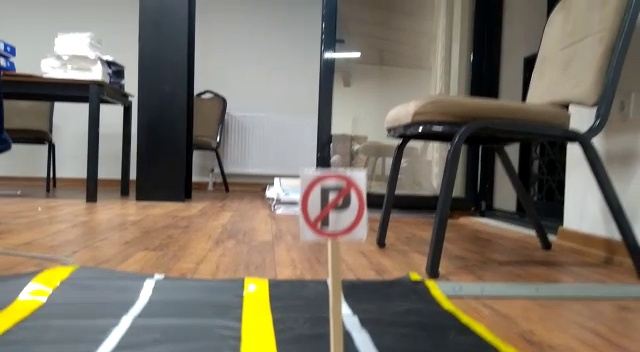park_yapilmaz: (299, 168, 368, 236)
